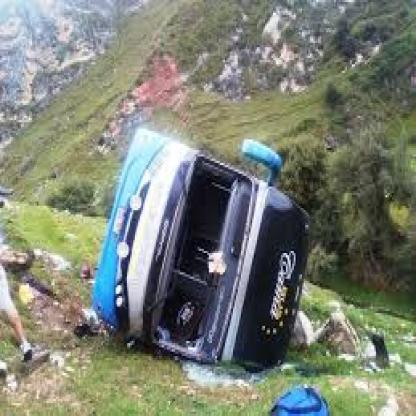accident: (67, 93, 340, 390)
